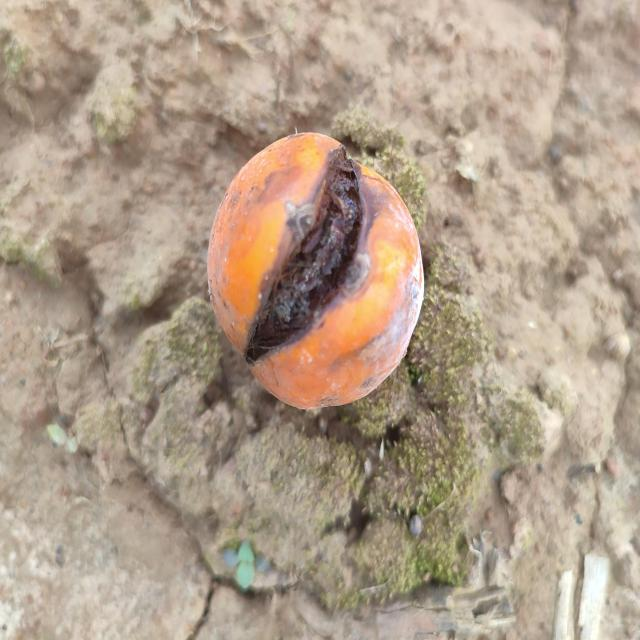damaged: (208, 133, 424, 409)
